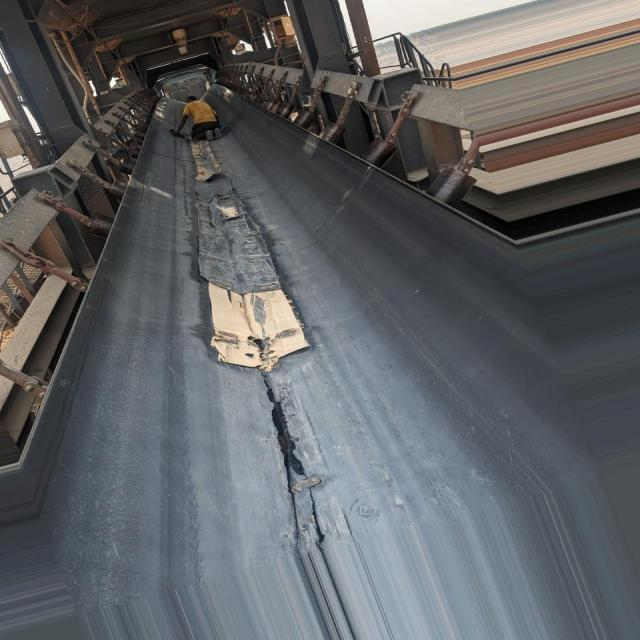Human: (173, 95, 222, 142)
Roller: (255, 94, 478, 207), (88, 120, 153, 240)
Tear: (265, 382, 304, 477)
patch work: (195, 174, 309, 368)
